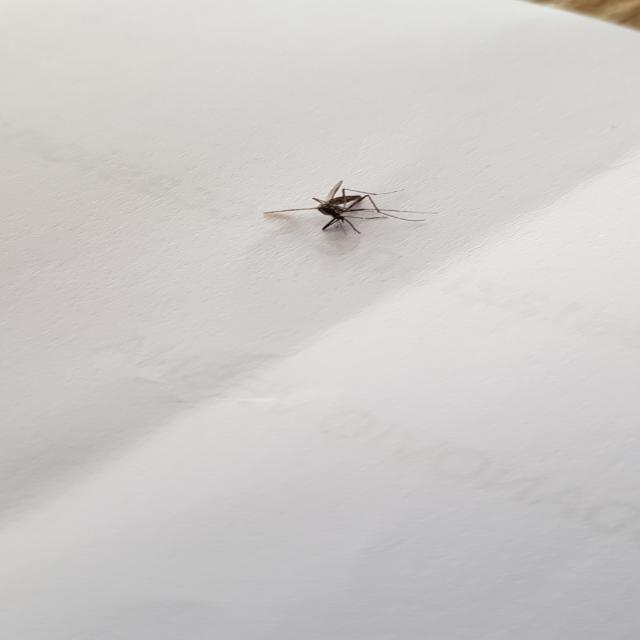albopictus: (265, 175, 429, 238)
